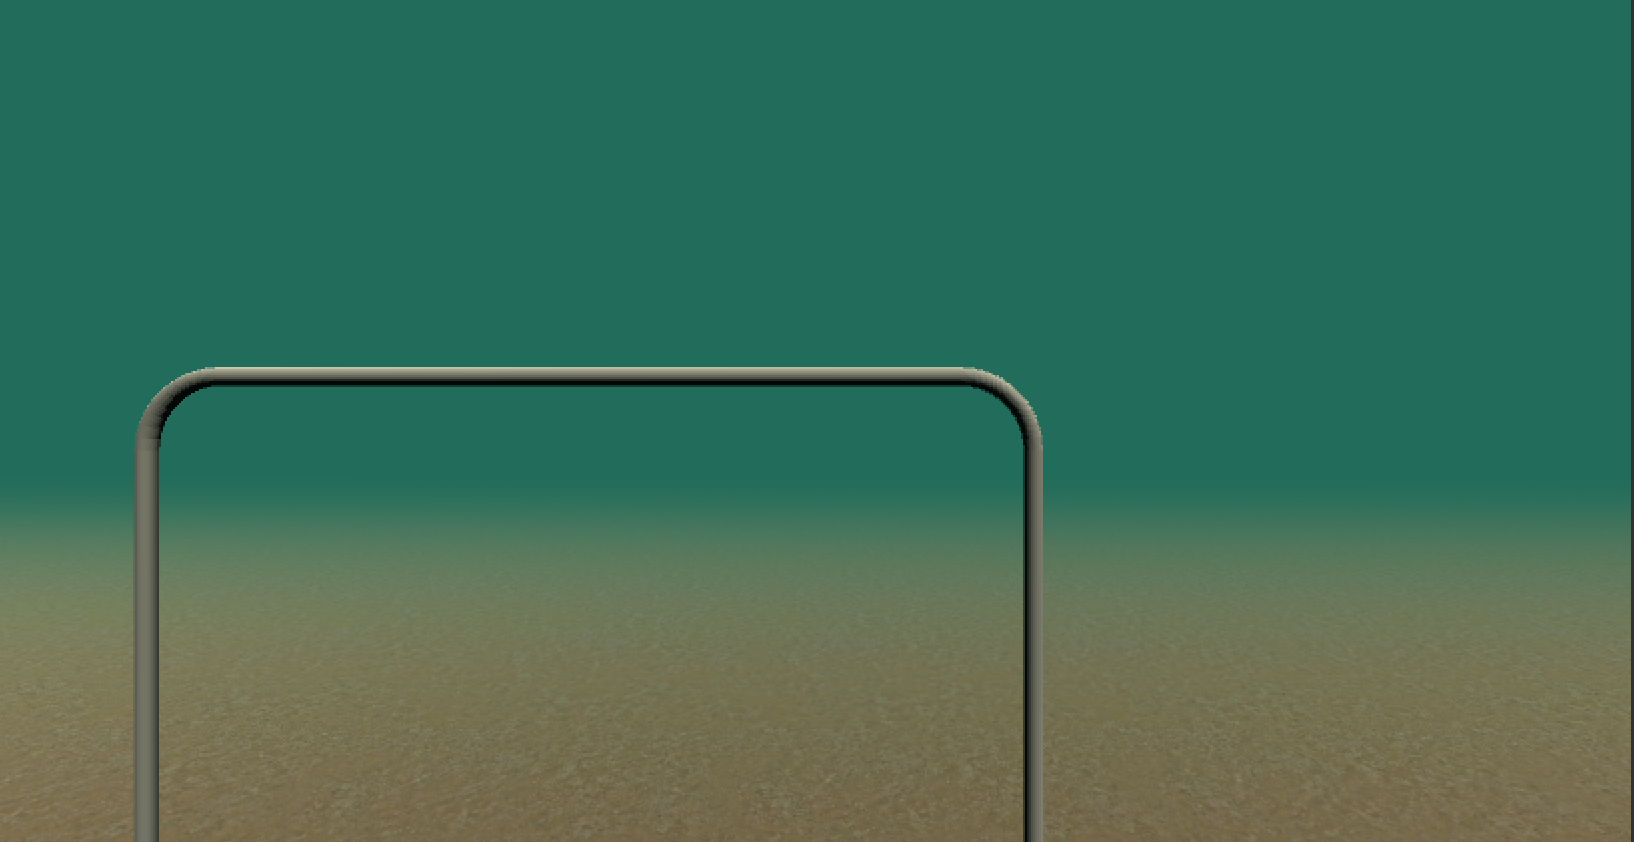gate: (127, 363, 1052, 842)
